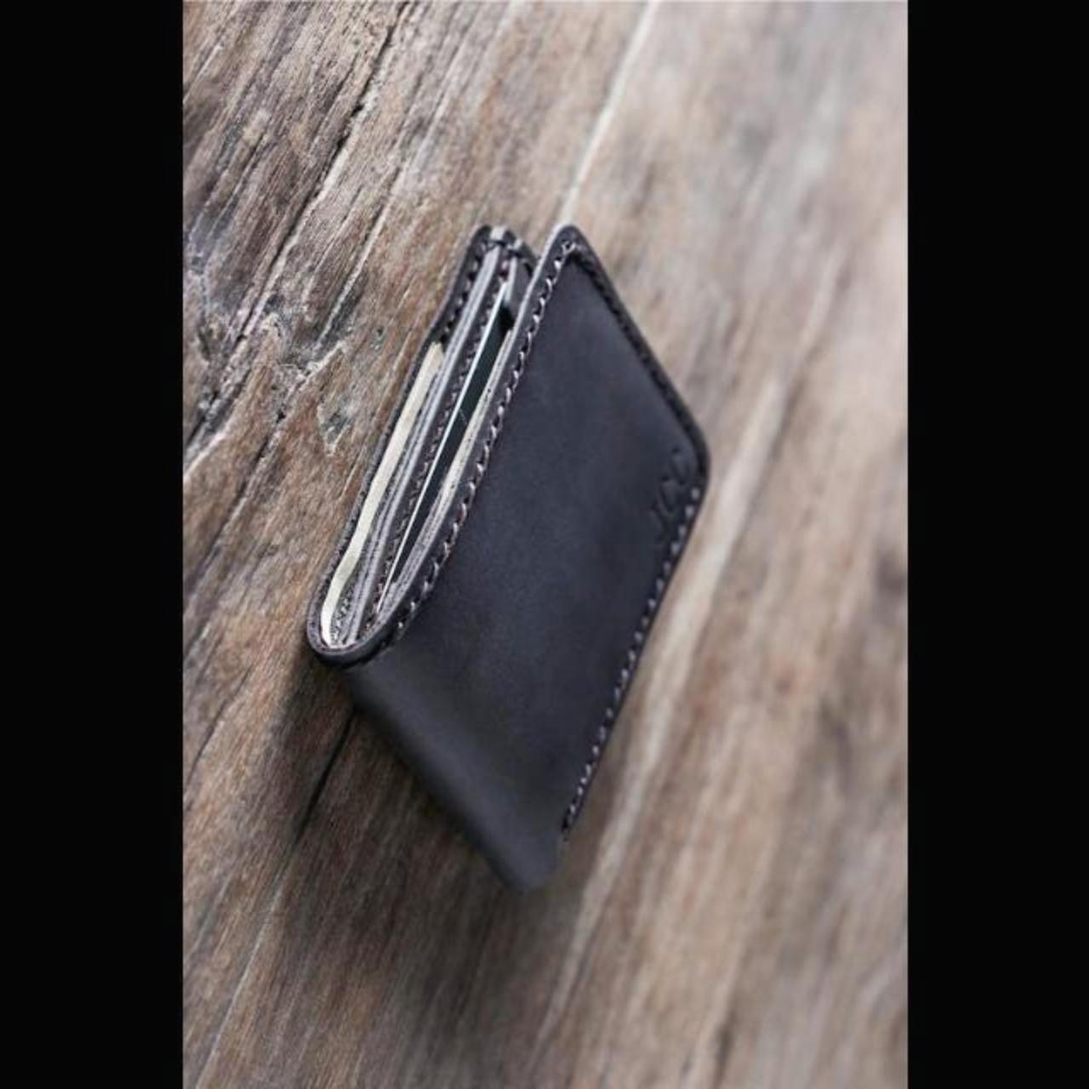wallet: (299, 220, 717, 895)
